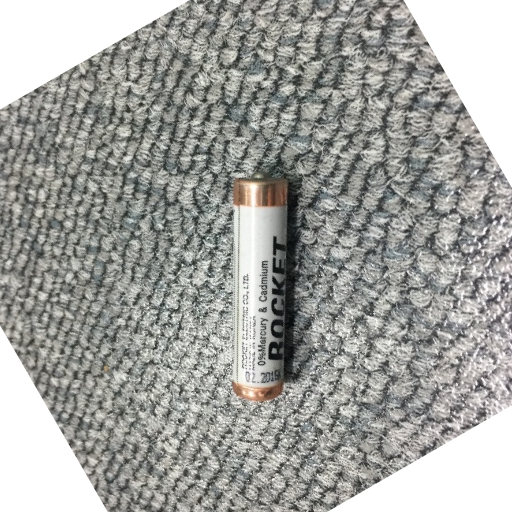Battery_0: (229, 166, 297, 402)
